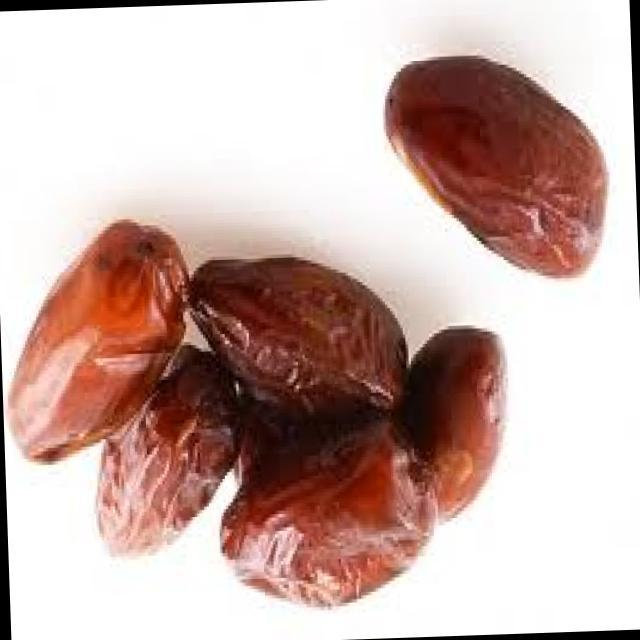Dates: (0, 189, 227, 584), (351, 27, 630, 326)
